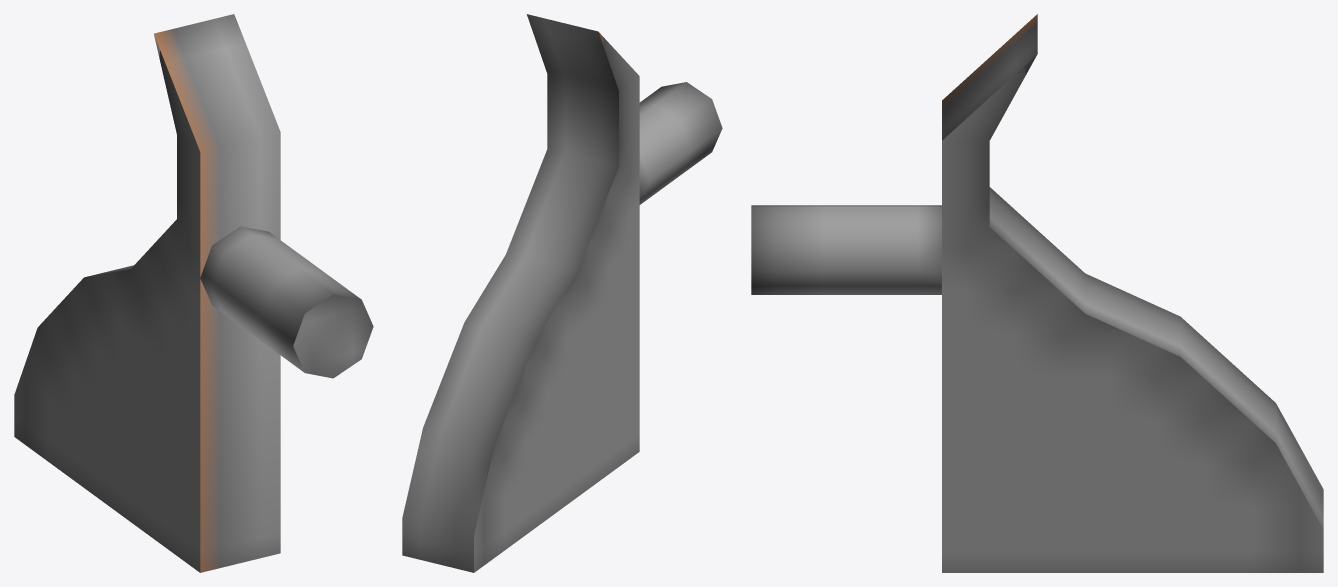
The model's file is henry_hammer.obj.
3 renders of one model, left to right at view 1: azimuth 30°, elevation 25°; view 2: azimuth 150°, elevation 25°; view 3: azimuth 270°, elevation 25°, orthographic. The views are drawn at different scales.
Visible parts, largest first — view 1: Hammer; view 2: Hammer; view 3: Hammer.
Part boxes in pixels (bbox=[...]): Hammer: bbox=[14, 14, 373, 572]; Hammer: bbox=[402, 14, 722, 572]; Hammer: bbox=[751, 14, 1323, 572].
Bounding box in the file's own units: 0.125 × 0.75 × 0.75.
